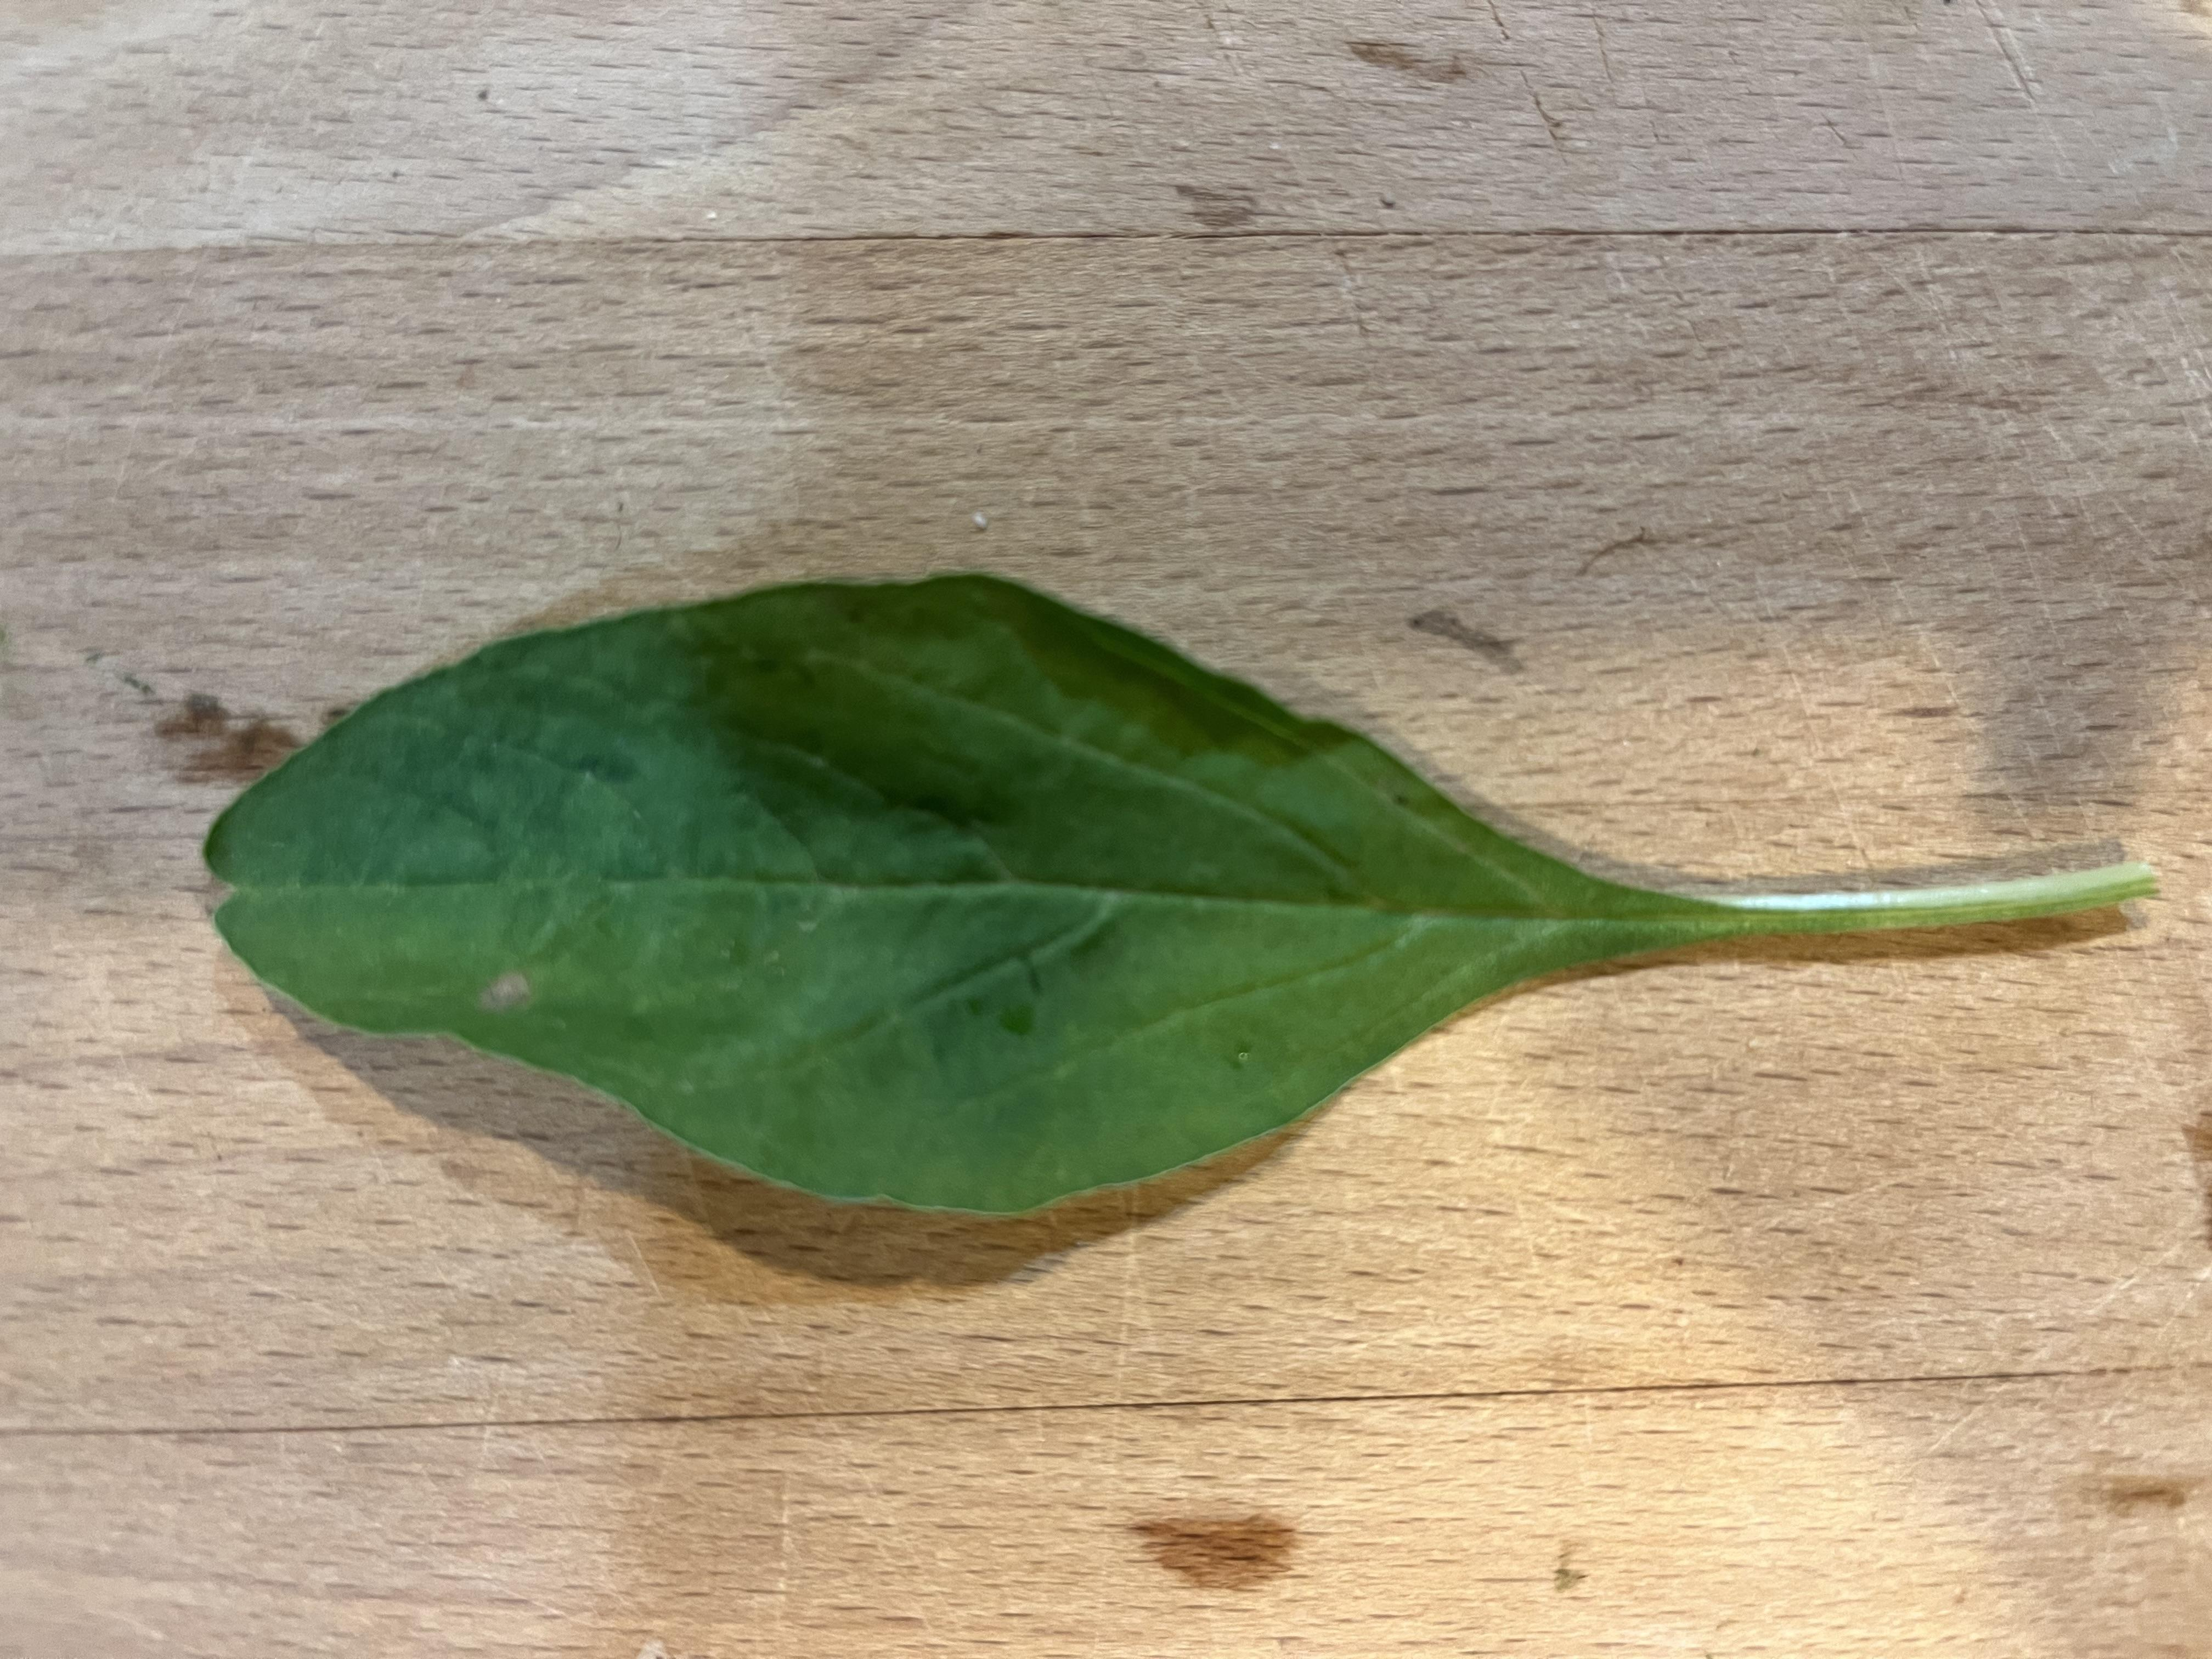Healthy-Pechay: (61, 477, 2101, 1272)
